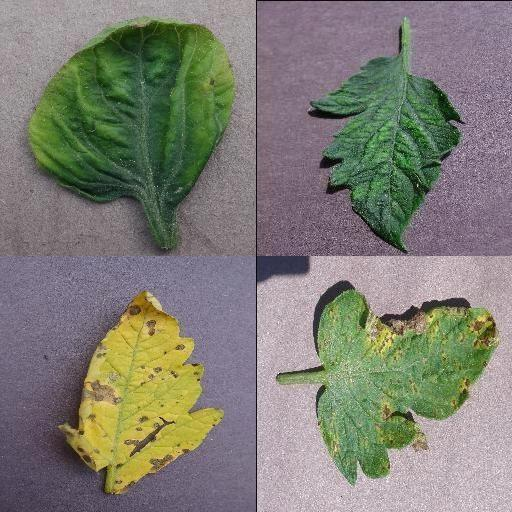Mosaic Virus: (306, 54, 465, 252)
Septoria: (314, 291, 500, 486), (57, 288, 225, 494)
Yellow Leaf Curl Virus: (29, 17, 233, 199)
